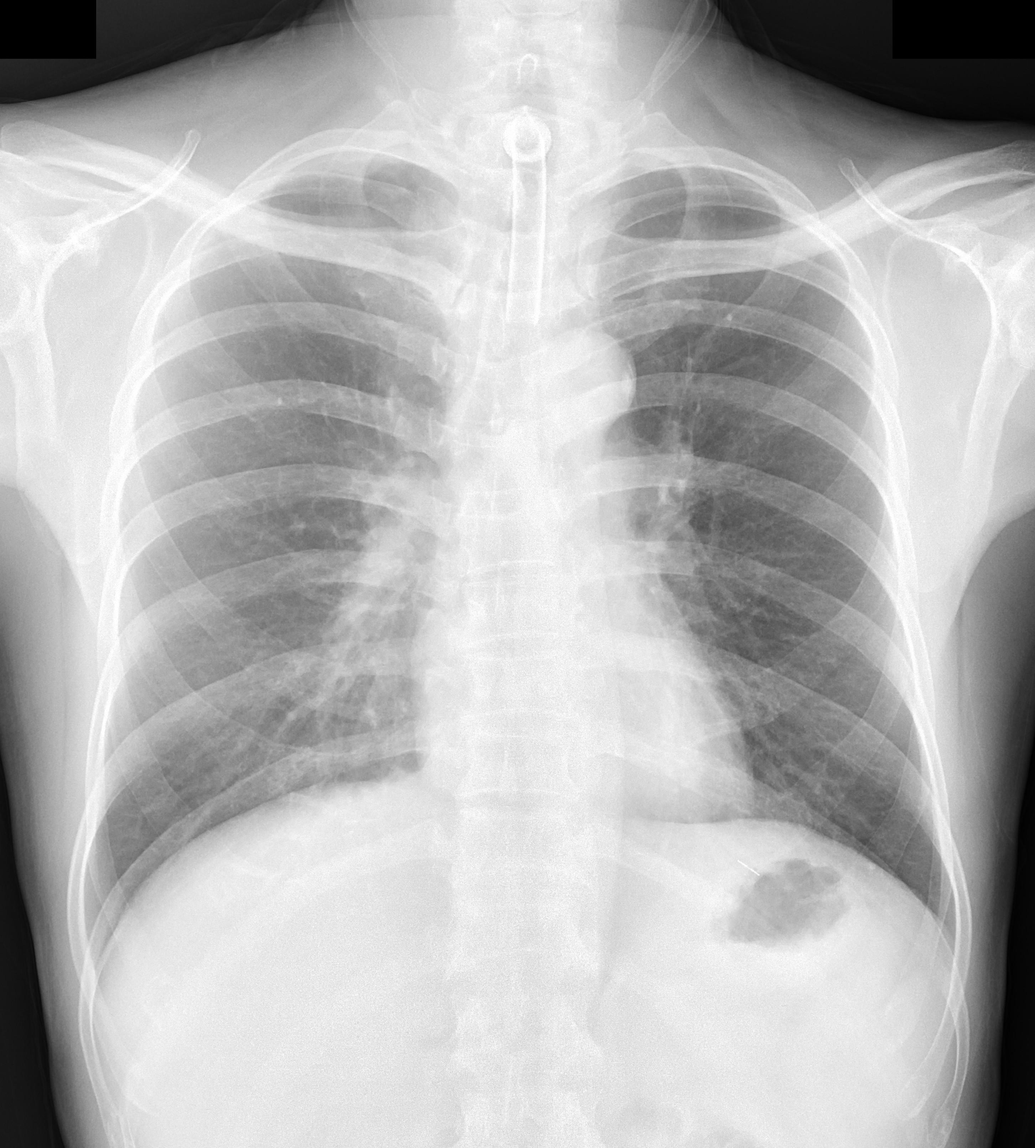Pleural thickening: (282, 142, 444, 193)
